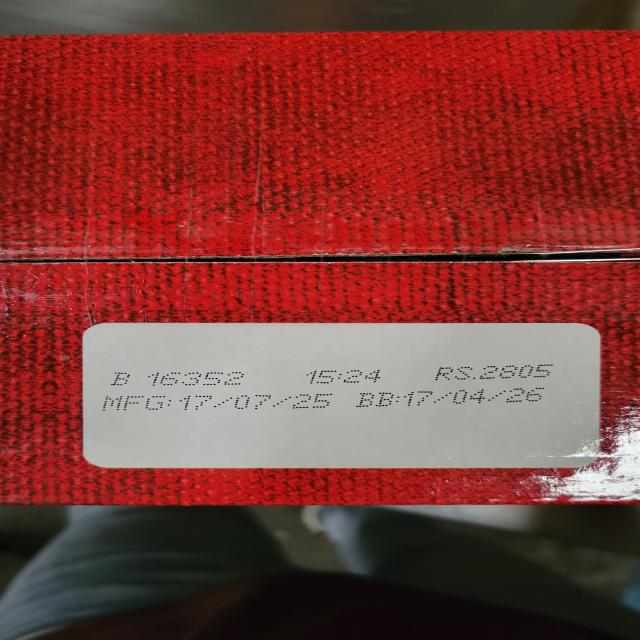BB: (360, 388, 547, 407)
Batch: (106, 372, 250, 387)
MFG: (104, 393, 333, 411)
RS: (434, 364, 554, 380)
TimeStamp: (307, 369, 385, 384)
